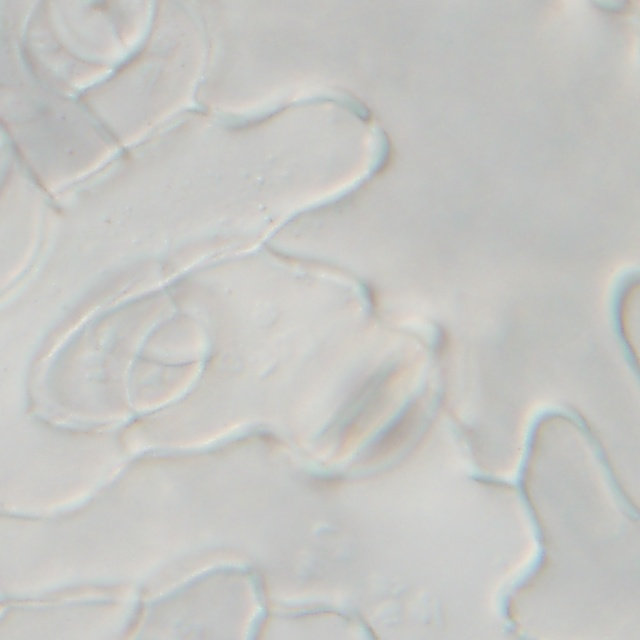center: (317, 349, 412, 445), (78, 27, 128, 38), (610, 321, 640, 325)
stomata-huw1: (278, 303, 459, 480), (48, 0, 158, 65), (620, 279, 639, 367)
